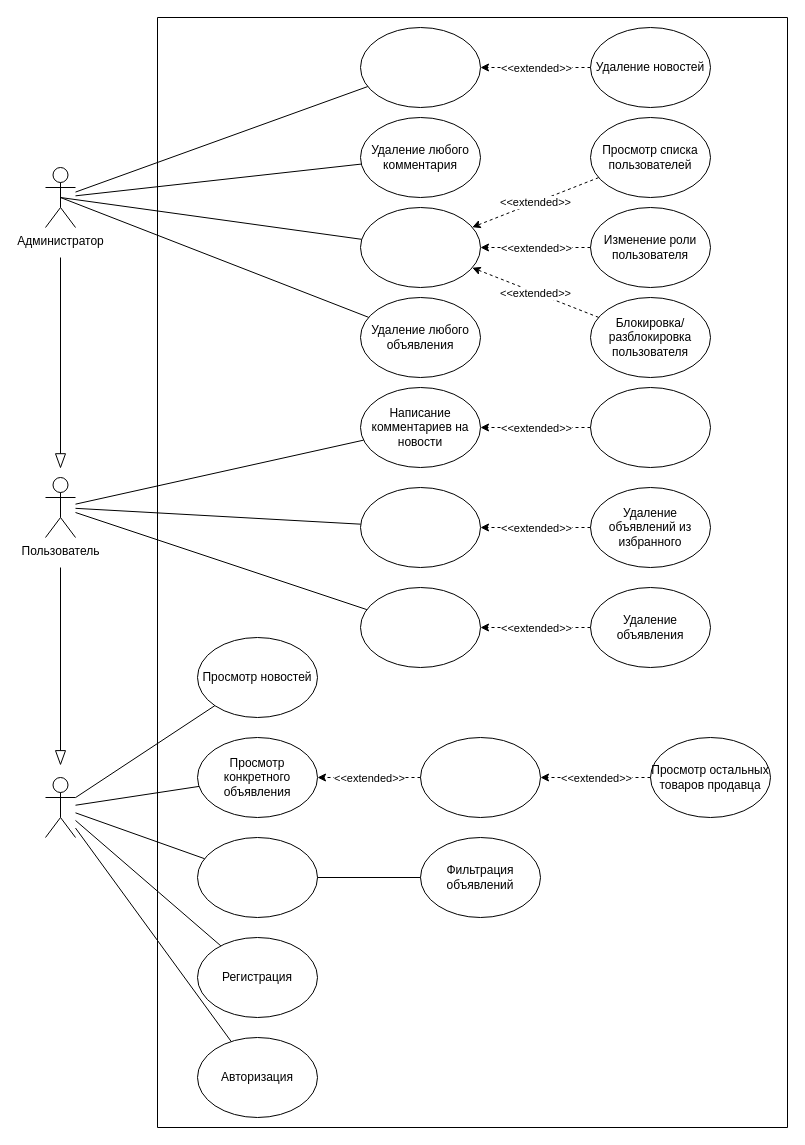
This 805x1145 diagram has some shape labels left out. The centre of each missing label's shape, as x and y in pixels:
"Вход в панель администратора" goes at [420,247].
"Гость" goes at [60,807].
"Добавление нового объявления" goes at [420,627].
"Добавление новостей" goes at [420,67].
"Добавление объявлений в избранное" goes at [420,527].
"Поиск недвижимости" goes at [257,877].
"Просмотр информации о продавце" goes at [480,777].
"Удаление своих комментариев" goes at [650,427].
